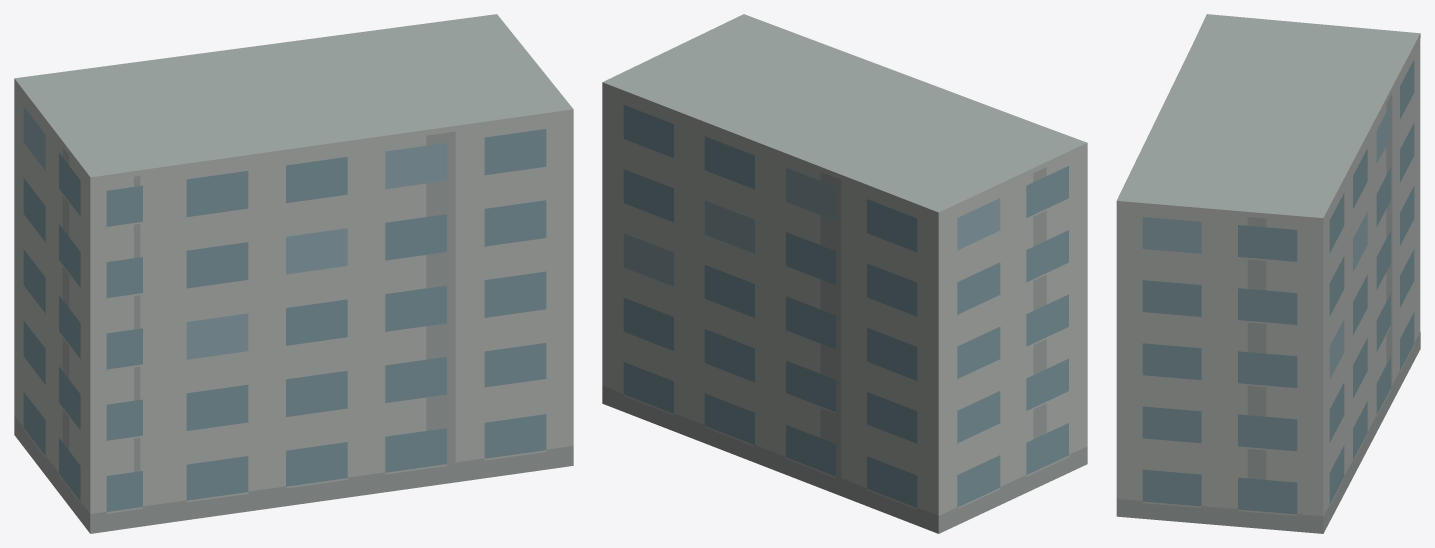
File: residential-67986d31-d43c-4d5a-87e5-1a53cd6318b1.glb
3 renders of one model, left to right at view 1: azimuth 30°, elevation 25°; view 2: azimuth 150°, elevation 25°; view 3: azimuth 270°, elevation 25°, orthographic. The views are drawn at different scales.
Visible parts, largest first — view 1: residential-67986d31-d43c-4d5a-87e5-1a53cd6318b1.tmp; view 2: residential-67986d31-d43c-4d5a-87e5-1a53cd6318b1.tmp; view 3: residential-67986d31-d43c-4d5a-87e5-1a53cd6318b1.tmp.
Part boxes in pixels (<box>): residential-67986d31-d43c-4d5a-87e5-1a53cd6318b1.tmp: <box>14,14,573,533</box>; residential-67986d31-d43c-4d5a-87e5-1a53cd6318b1.tmp: <box>602,14,1087,533</box>; residential-67986d31-d43c-4d5a-87e5-1a53cd6318b1.tmp: <box>1116,14,1420,533</box>.
Bounding box in the file's own units: 21.16 × 15.25 × 13.31.
